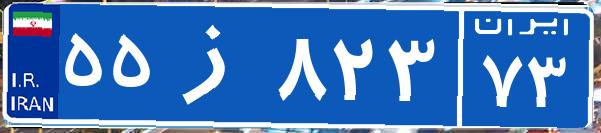2: (330, 28, 385, 110)
3: (385, 28, 445, 110), (525, 38, 570, 115)
5: (57, 26, 110, 107), (110, 28, 158, 105)
7: (475, 38, 525, 113)
8: (273, 28, 330, 110)
ز: (158, 15, 273, 115)
